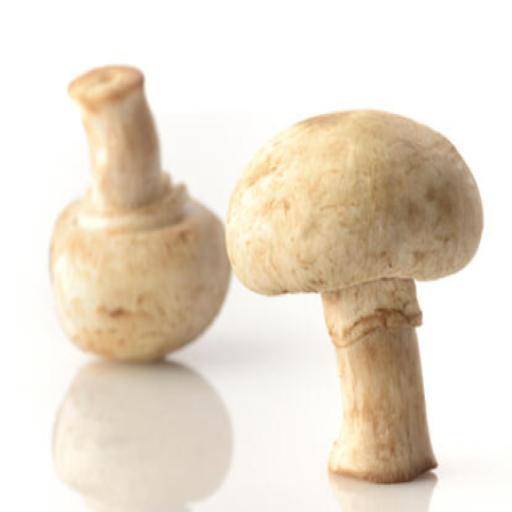mushroom: (225, 99, 489, 483), (40, 56, 233, 369)
